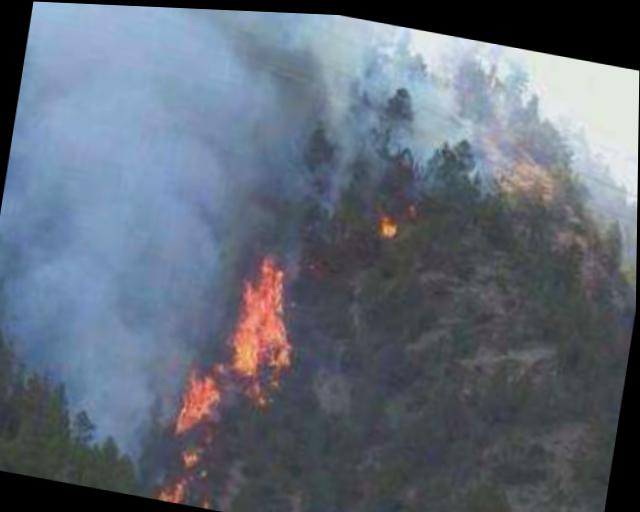fire: (172, 239, 302, 450), (159, 441, 205, 503), (378, 196, 411, 238)
